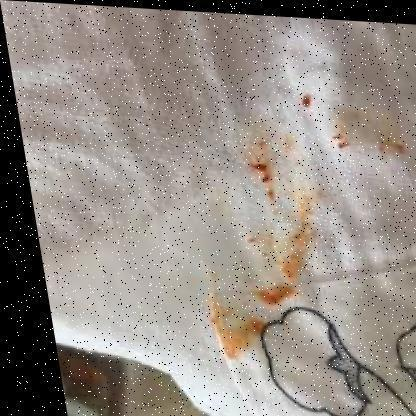kimchi: (241, 210, 320, 306), (327, 107, 404, 159), (200, 288, 253, 357), (240, 148, 282, 198), (297, 185, 331, 234), (229, 300, 266, 335), (295, 87, 320, 116)
